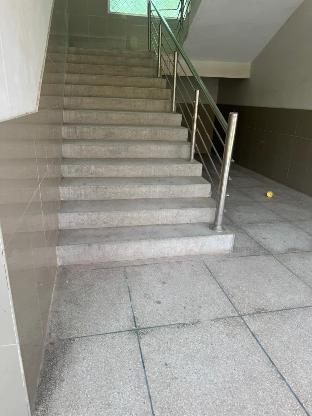stair: (50, 5, 230, 269)
